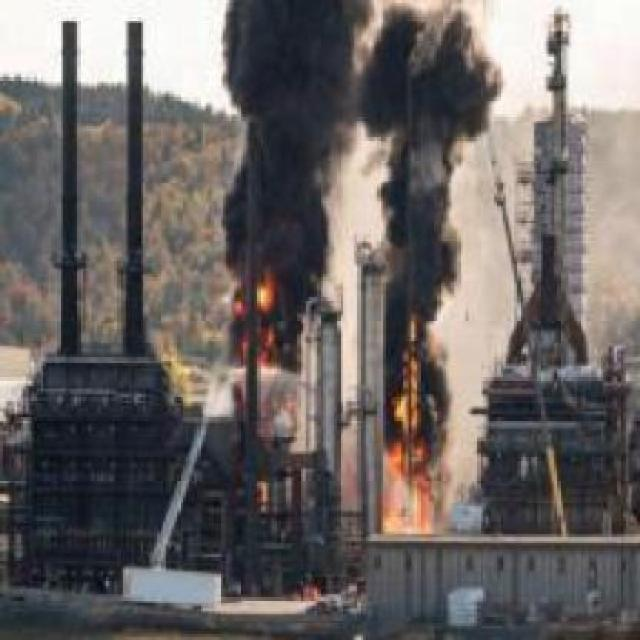Smoke: (374, 1, 498, 456), (217, 0, 371, 315)
